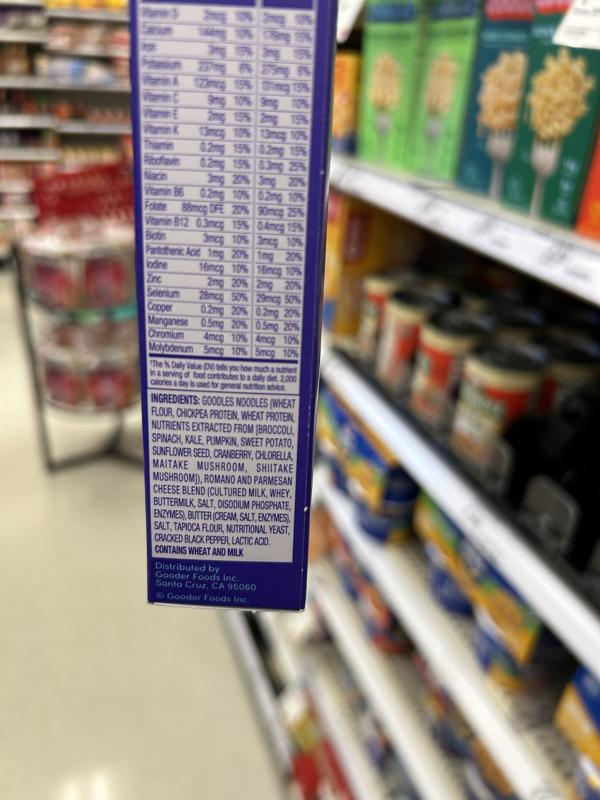ingredients: (147, 391, 298, 546)
